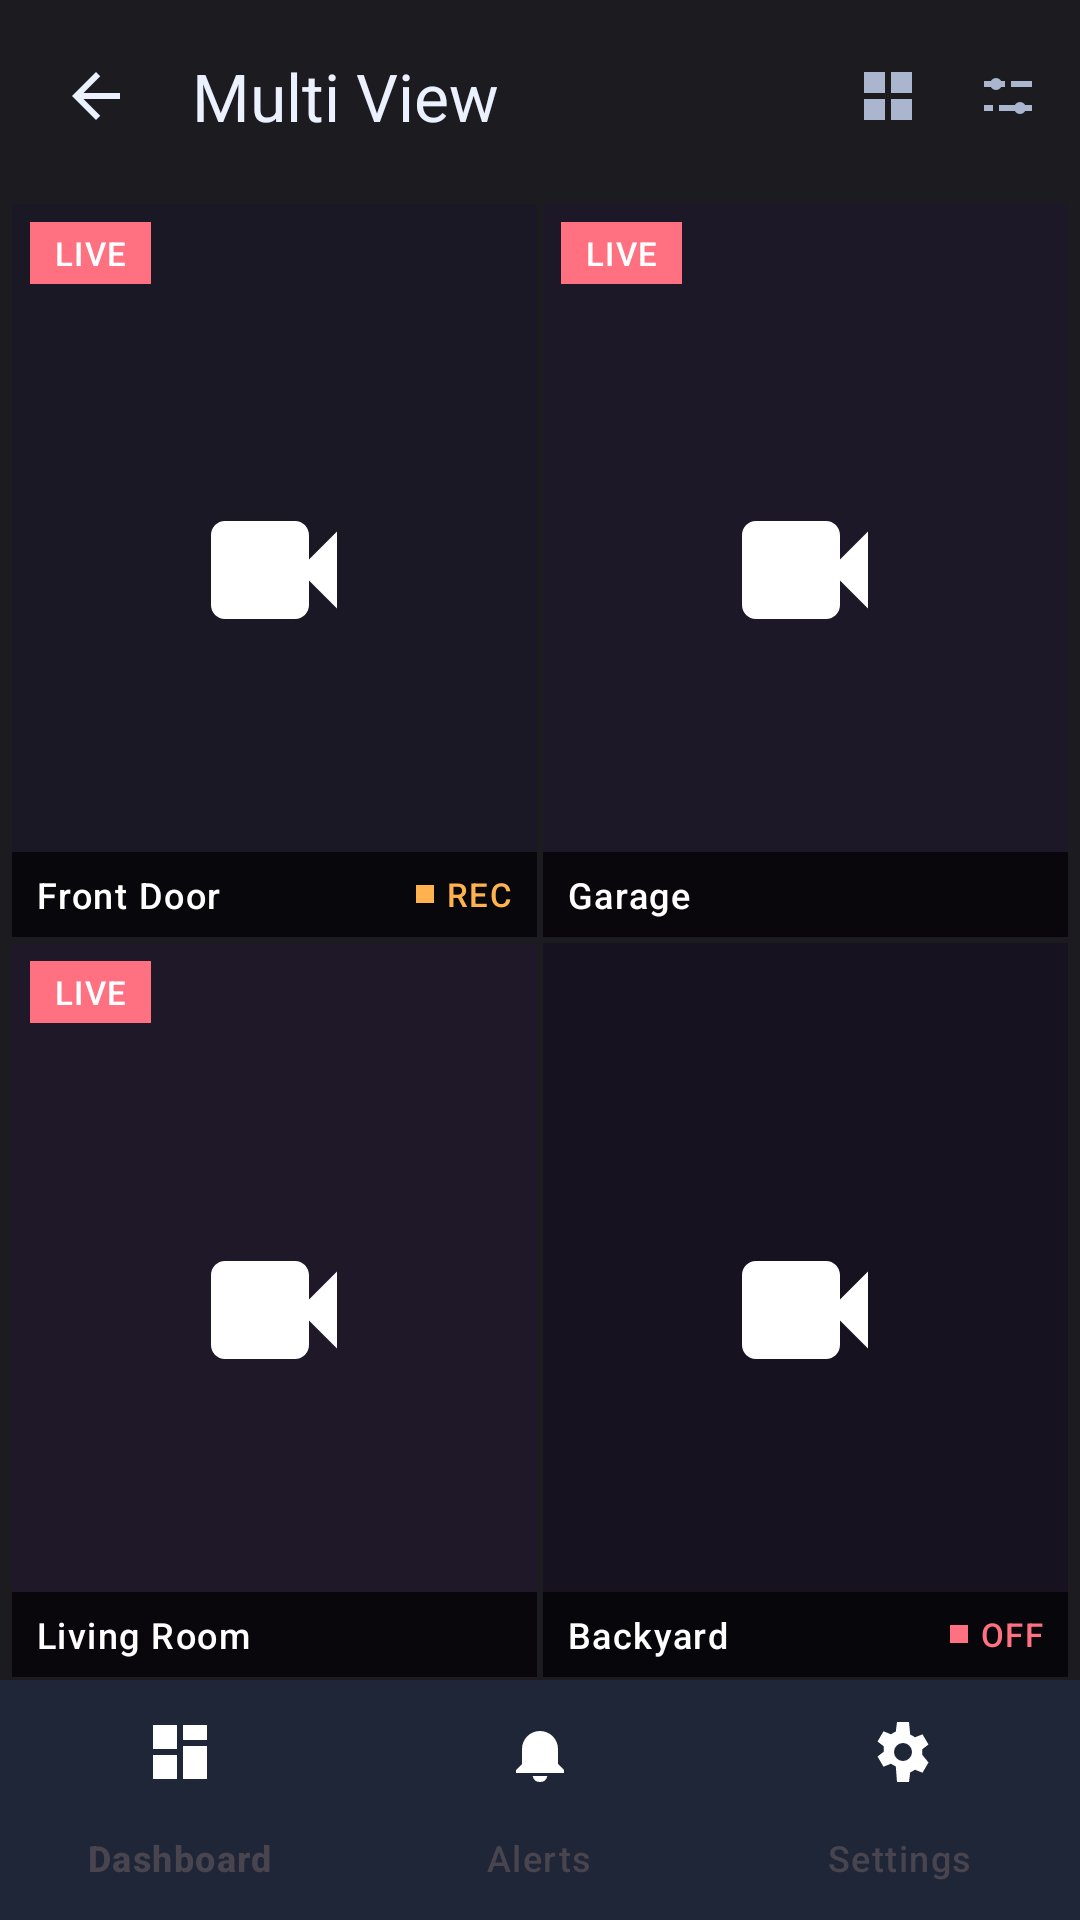

Screen size 1080 x 1920. Icon name, then its center in pixels as point (x, y):
videocam: point (274, 570), point (805, 570), point (274, 1310), point (805, 1310)
